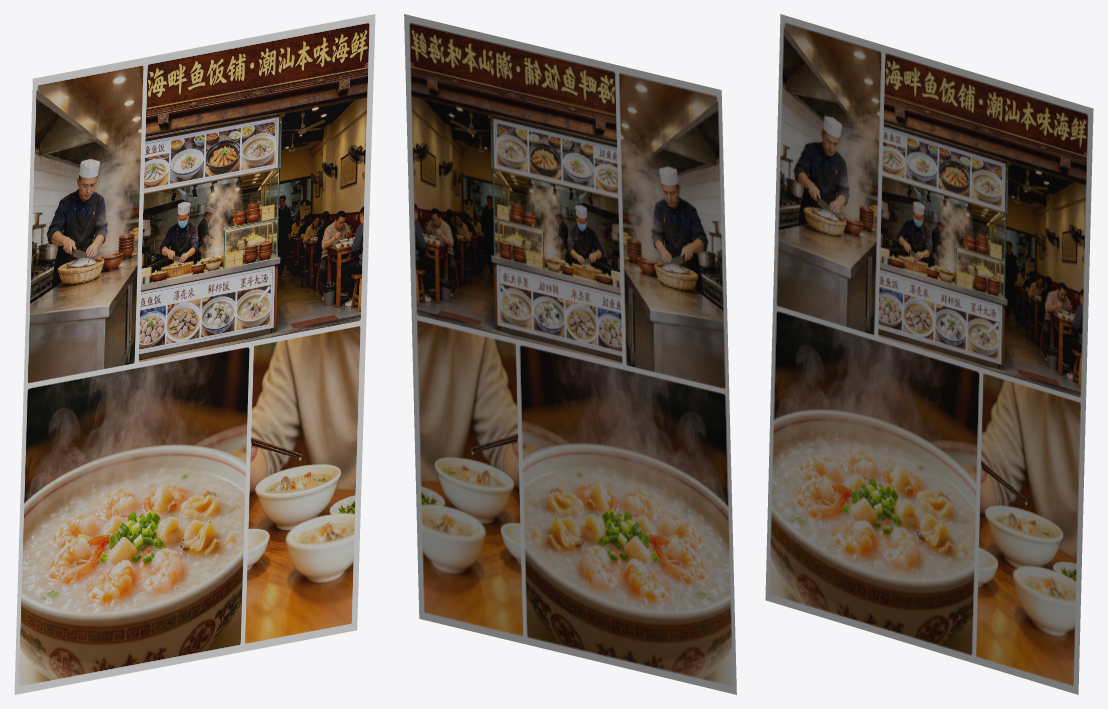
File: liu.glb
3 views of the same model, side by side, from view 1: azimuth 30°, elevation 25°; view 2: azimuth 150°, elevation 25°; view 3: azimuth 330°, elevation 25° (orthographic). The views are drawn at different scales.
Parts seen in each view (by area): view 1: 平面; view 2: 平面; view 3: 平面.
Boxes of the visible parts, x1,y1,x2,y2 form: 平面: [14, 14, 375, 694]; 平面: [404, 14, 736, 694]; 平面: [765, 14, 1093, 694].
Size of the model in its own units: 2.38 by 4.04 by 0.1219.
1 material, 1 textured.
